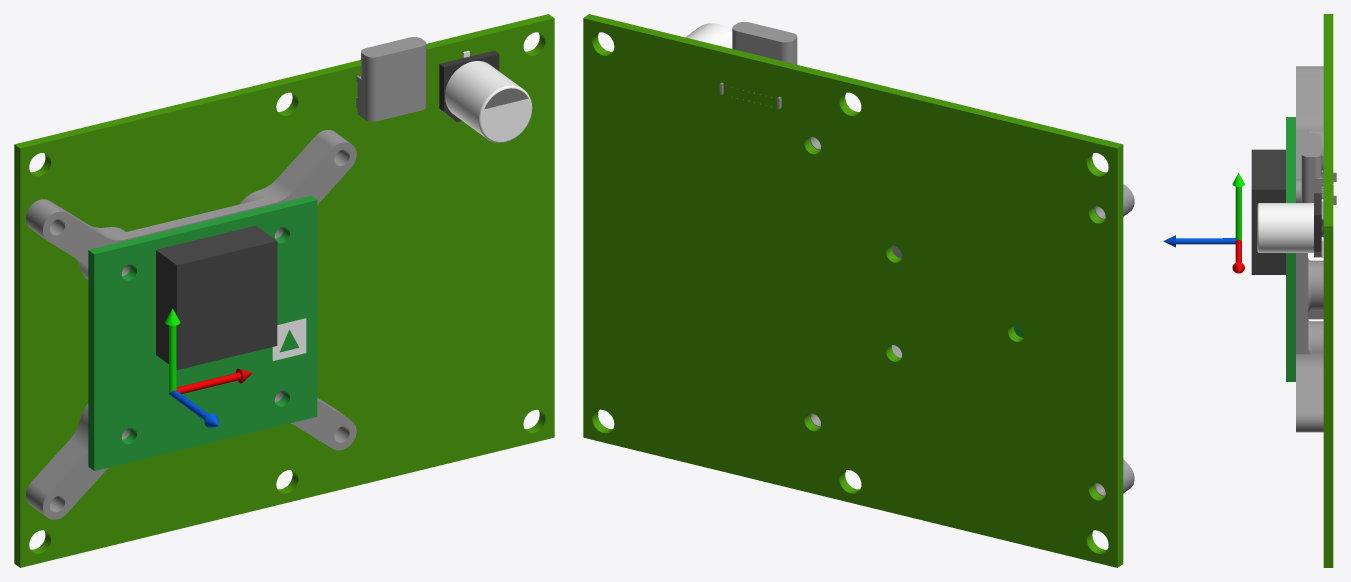
File: IMU_Platform_1650X.obj
3 views of the same model, side by side, from view 1: azimuth 30°, elevation 25°; view 2: azimuth 150°, elevation 25°; view 3: azimuth 270°, elevation 25° (orthographic). The views are drawn at different scales.
Visible parts, largest first — view 1: ボディ1:2, ボディ1:4, ボディ1:3, ボディ1:5, ボディ1:1, ボディ1, ボディ1:6; view 2: ボディ1:2, ボディ1, ボディ1:3, ボディ1:1; view 3: ボディ1:3, ボディ1:2, ボディ1:1, ボディ1:5, ボディ1:4, ボディ1, ボディ1:6.
Part boxes in pixels (box(x1,y1,x2,y2)): ボディ1:2: box(14, 14, 554, 567); ボディ1:4: box(88, 195, 317, 470); ボディ1:3: box(26, 130, 356, 519); ボディ1:5: box(156, 225, 277, 370); ボディ1:1: box(439, 50, 532, 142); ボディ1: box(356, 37, 426, 121); ボディ1:6: box(165, 308, 252, 427); ボディ1:2: box(583, 14, 1123, 567); ボディ1: box(719, 22, 797, 108); ボディ1:3: box(810, 136, 1134, 496); ボディ1:1: box(685, 23, 732, 48); ボディ1:3: box(1296, 66, 1323, 432); ボディ1:2: box(1323, 14, 1333, 567); ボディ1:1: box(1257, 193, 1323, 257); ボディ1:5: box(1251, 149, 1285, 274); ボディ1:4: box(1286, 117, 1295, 381); ボディ1: box(1301, 133, 1336, 204); ボディ1:6: box(1163, 173, 1244, 273).
Size of the model in its own units: 8 by 6.25 by 2.76.
